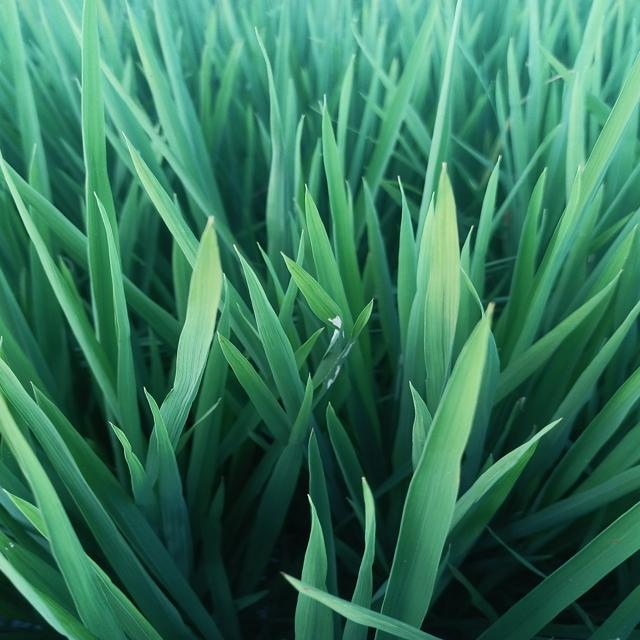brown plant hopper: (326, 340, 360, 391), (318, 311, 346, 351)
